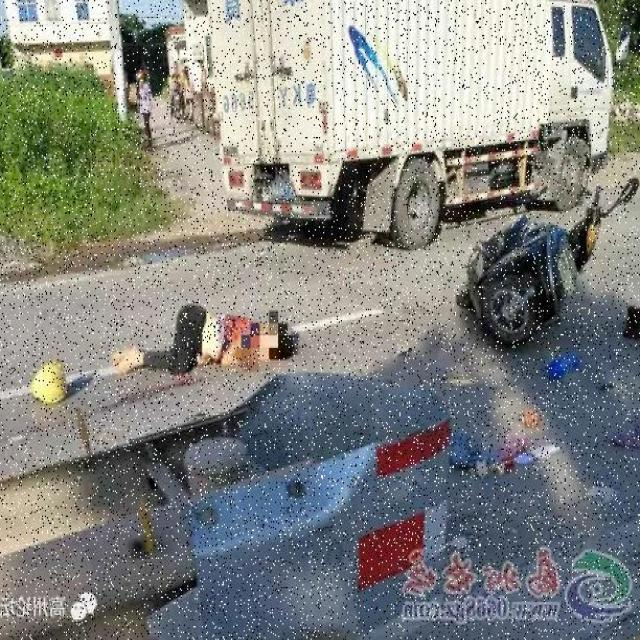fall: (128, 310, 290, 389)
